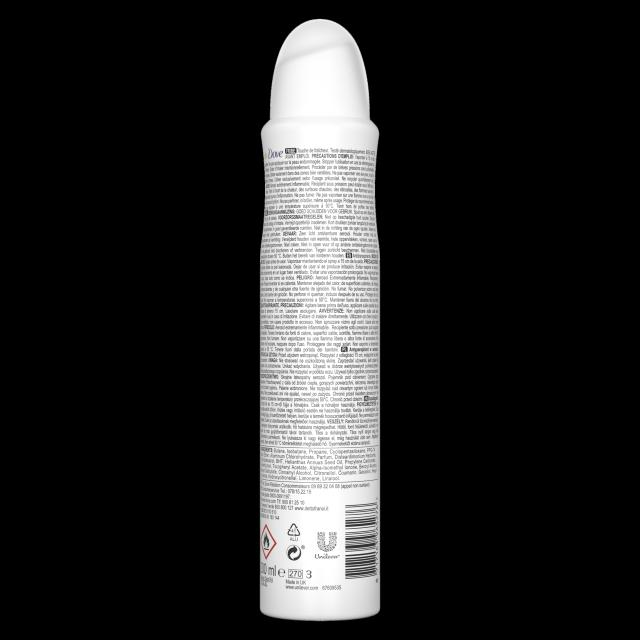GHS_Symbol_FLAME: (260, 525, 277, 560)
